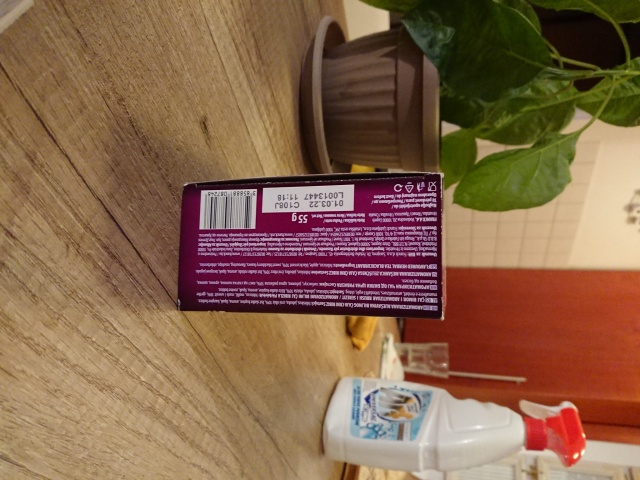Franck Black Currant Tea 60g: (174, 169, 449, 323)
